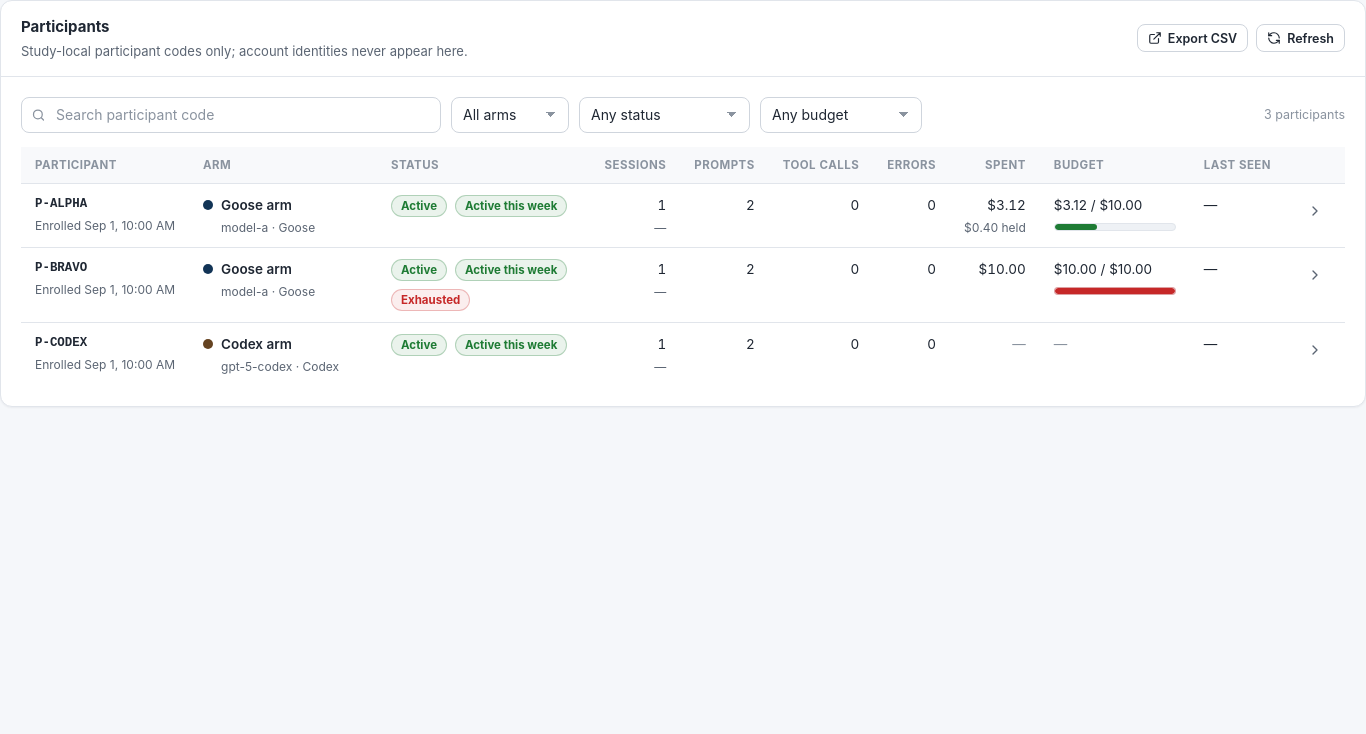
the drawer's Adjust budget action opens the form; a failed submit keeps its idempotency key so the retry replays
The width and height of the screenshot is (1366, 734).
Click the button named "Open dashboard for participant P-ALPHA".
click(1315, 211)  # box [1299,195,1331,227]
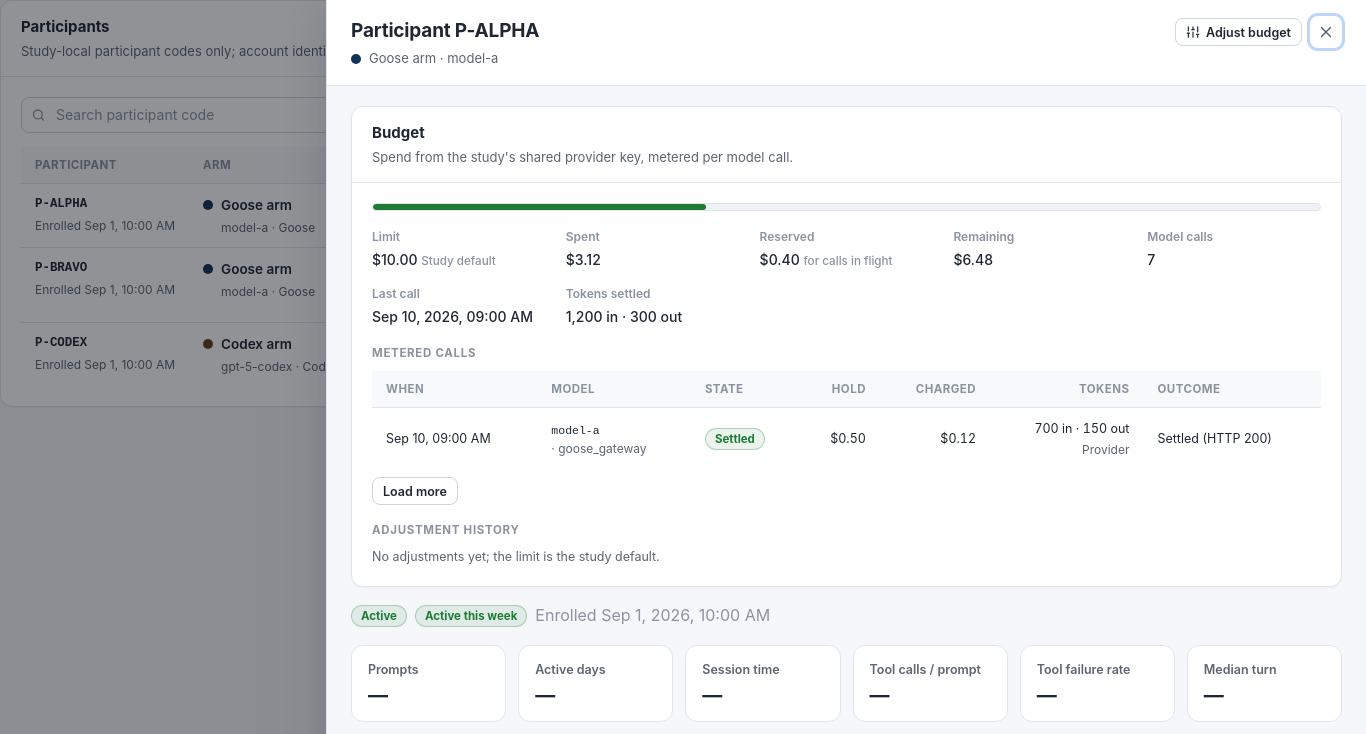
Expected: the text "$6.48" is shown, [953,251,993,268]
Expected: the text "Study default" is shown, [421,254,496,268]
Expected: the text "Settled" is shown, [705,428,765,450]
# "Load more" follows the server's cursor.
Click the button "Load more".
click(415, 491)  # box [372,477,458,505]
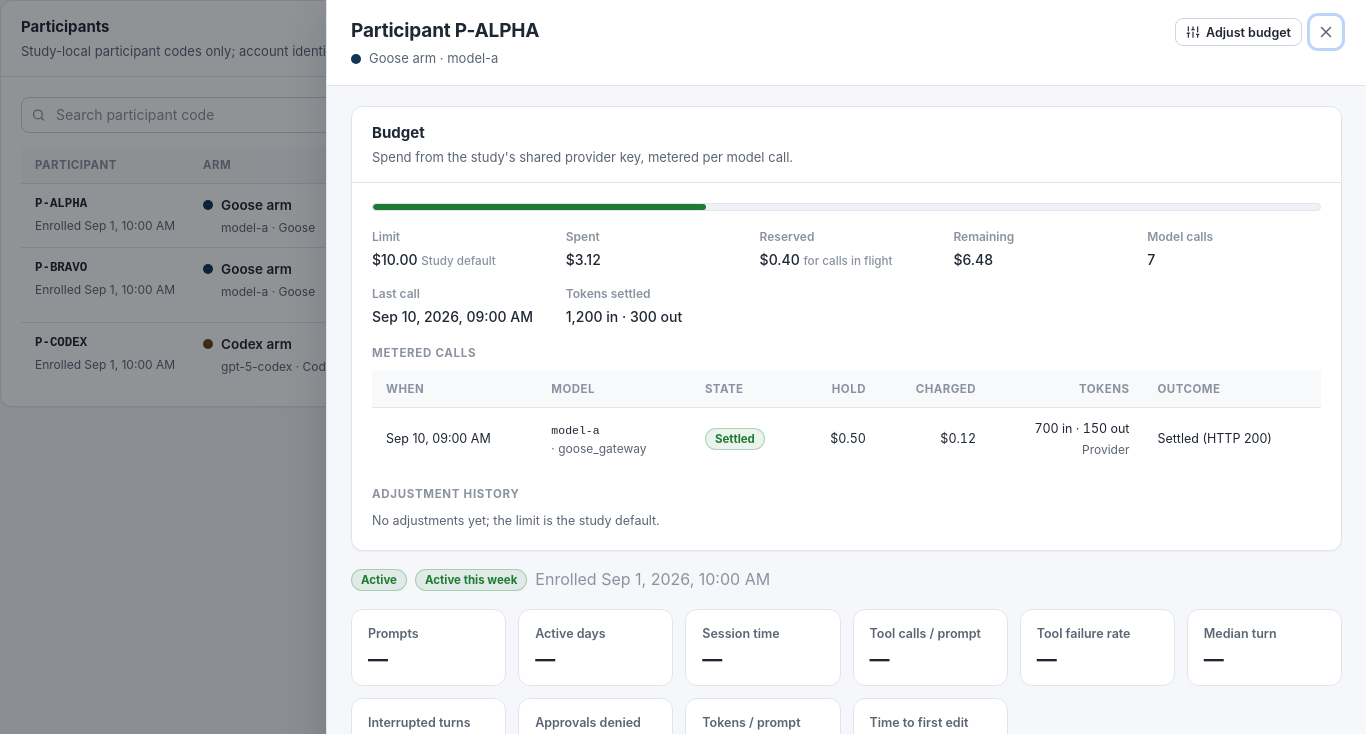
Expected: the button "Load more" is gone
Click the button "Adjust budget".
click(1239, 32)  # box [1175,18,1302,46]
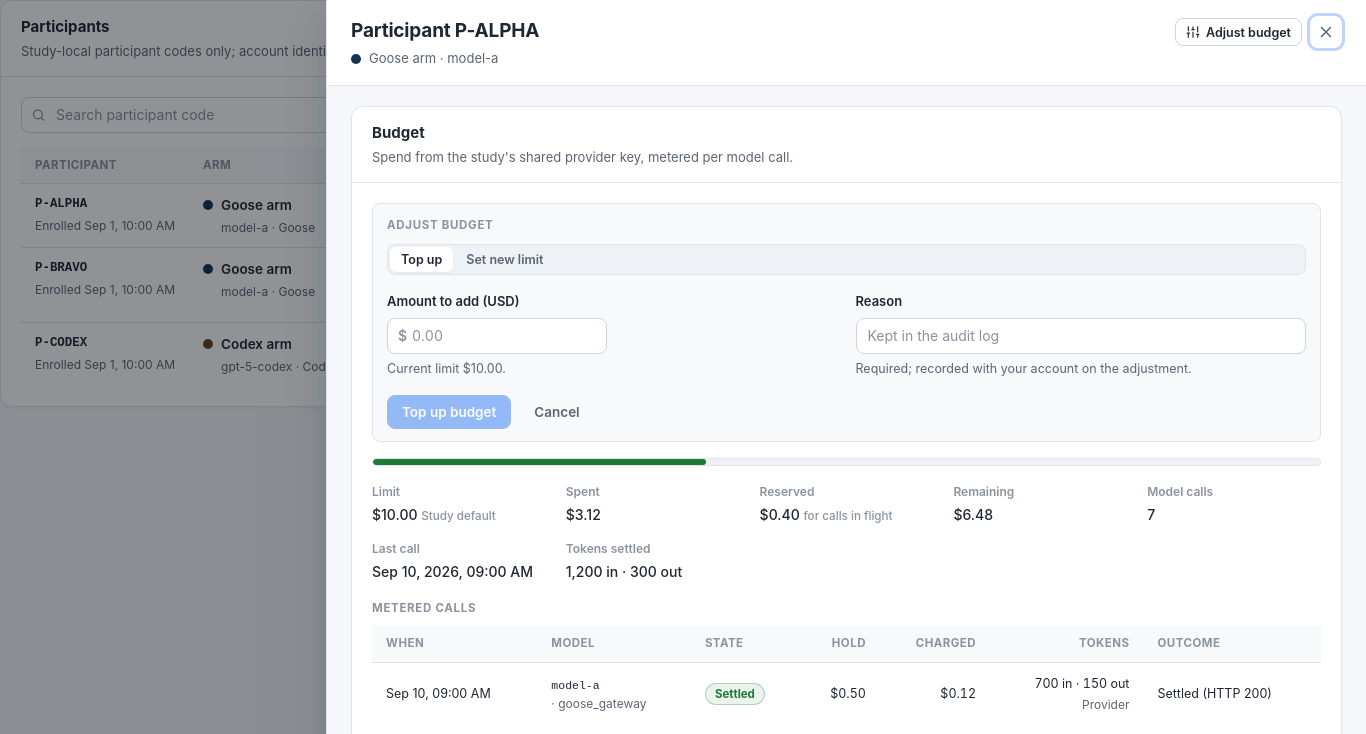
Expected: the button "Top up budget" is disabled, [387,395,511,429]
Type "5" into the field labelled "Amount to add (USD)".
click(497, 336); type("5")  # box [387,318,607,354]
Type "Extra week" into the field labelled "Reason".
click(1081, 336); type("Extra week")  # box [856,318,1306,354]
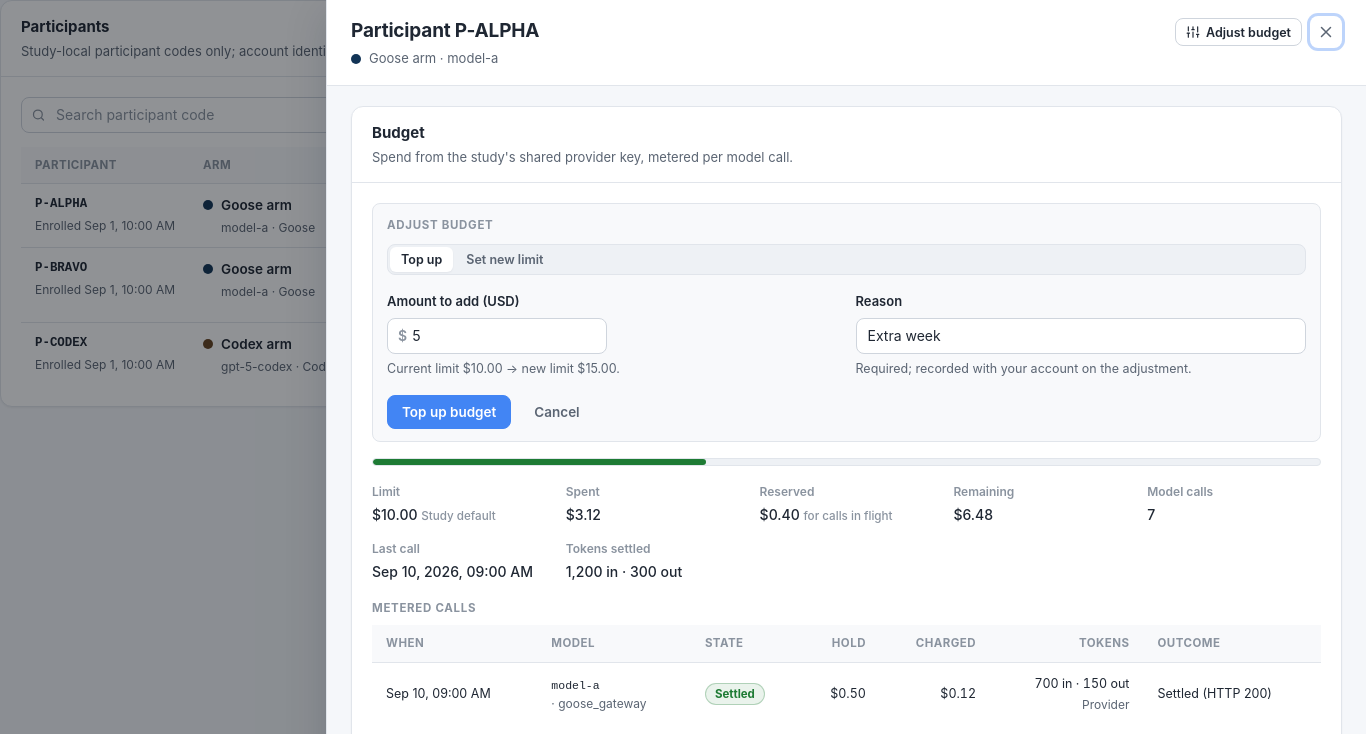
Expected: the text "Current limit $10.00 → new limit $15.00." is shown, [387,361,620,376]
Expected: the button "Top up budget" is enabled
Click the button "Top up budget".
click(449, 412)  # box [387,395,511,429]
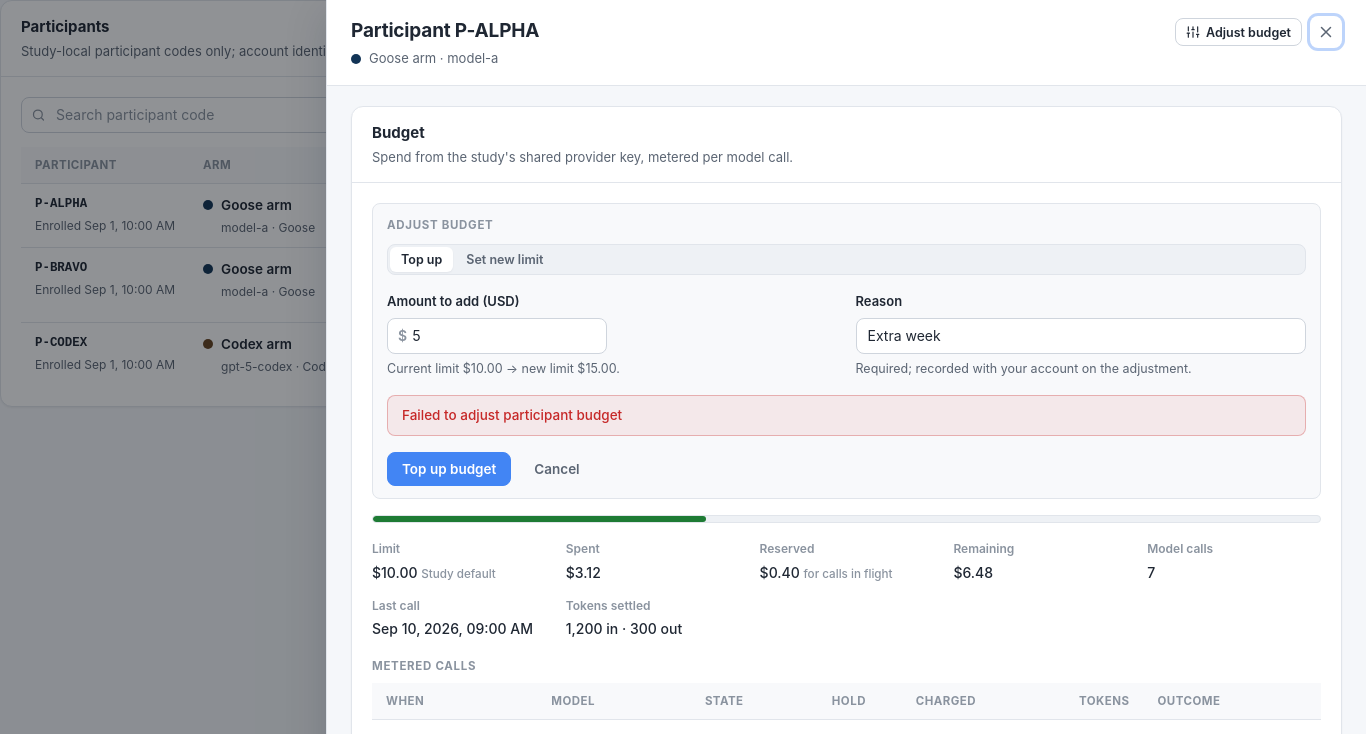
Expected: the message shows "Failed to adjust", [402,407,622,423]
# The same unchanged request goes out with the same key: the server replays, never double-applies.
Click the button "Top up budget".
click(449, 470)  # box [387,452,511,486]
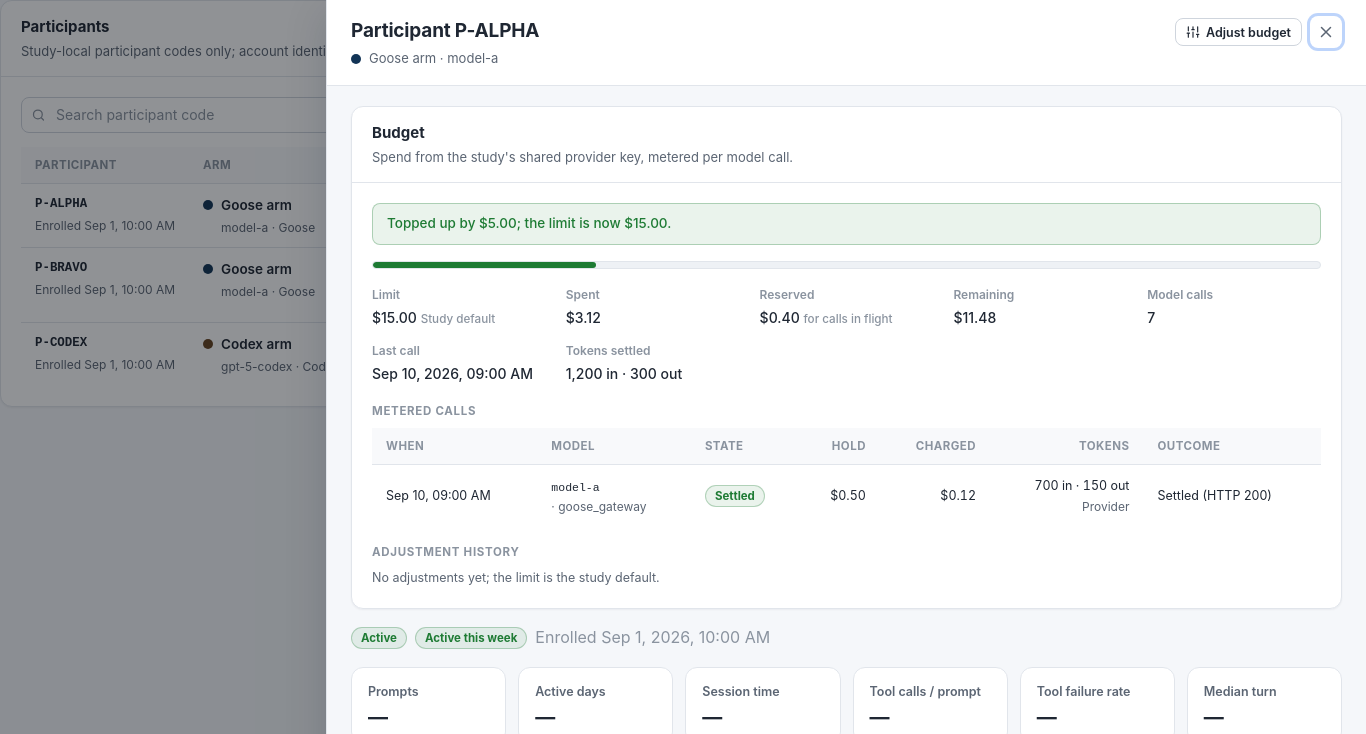
Expected: the text "Topped up by $5.00; the limit is now $15.00." is shown, [372,203,1321,245]
Expected: the text "$11.48" is shown, [953,309,996,326]
